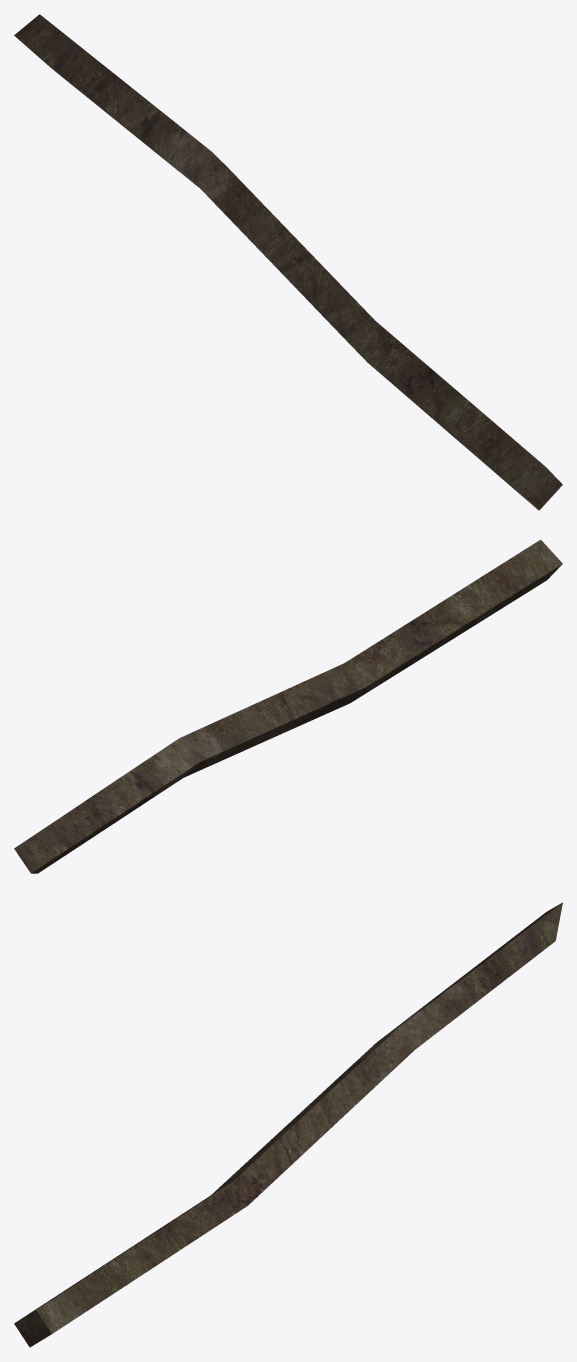
File: TI_IronBar_03.fbx
3 renders of one model, top to bottom at view 1: azimuth 30°, elevation 25°; view 2: azimuth 150°, elevation 25°; view 3: azimuth 330°, elevation 25°, orthographic. The views are drawn at different scales.
Visible parts, largest first — view 1: TI_IronBar_03; view 2: TI_IronBar_03; view 3: TI_IronBar_03.
Part boxes in pixels (<box>): TI_IronBar_03: <box>14,14,562,510</box>; TI_IronBar_03: <box>14,539,562,873</box>; TI_IronBar_03: <box>14,902,562,1347</box>.
Size of the model in its own units: 0.084 by 0.1101 by 1.13.
